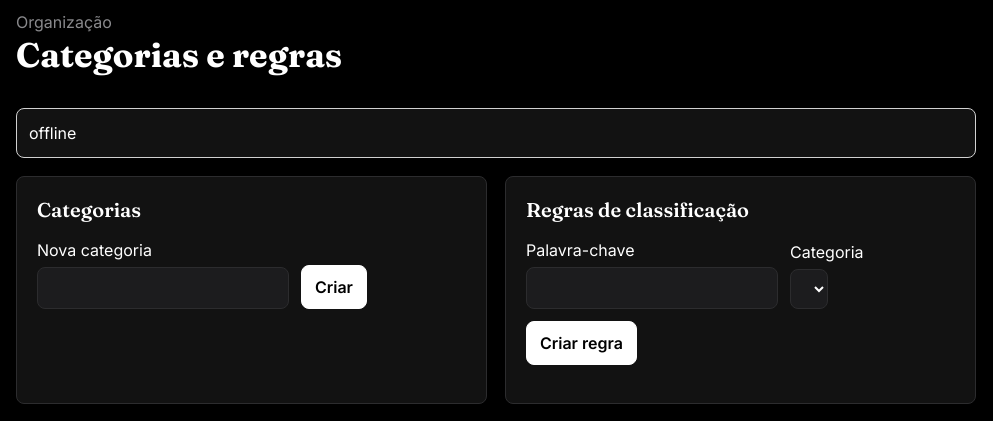
Scenario: CategoriesPage › clears an obsolete load error after successful category creation
Check: the message reads "offline", box x1=29 y1=123 x2=76 y2=143
Type "Moradia" into the field labelled "Nova categoria".
click(163, 288); type("Moradia")  # box x1=37 y1=267 x2=289 y2=309
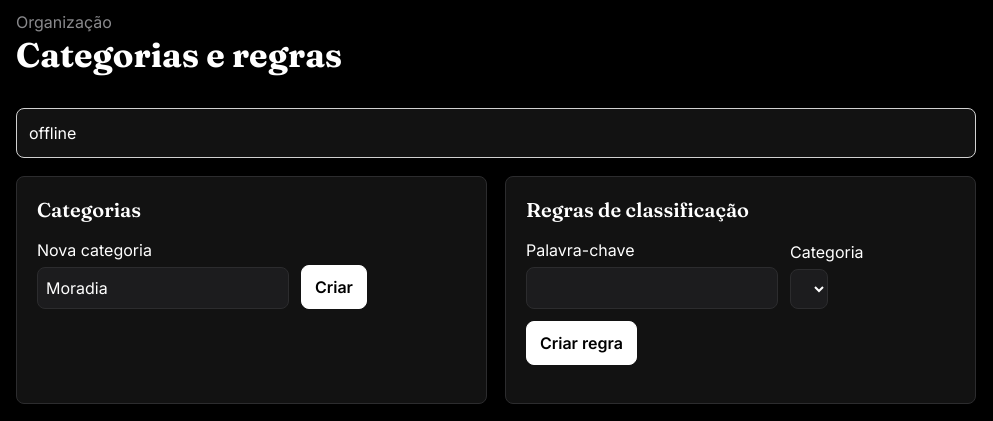
Click the button "Criar".
click(334, 287)  # box x1=301 y1=265 x2=367 y2=309
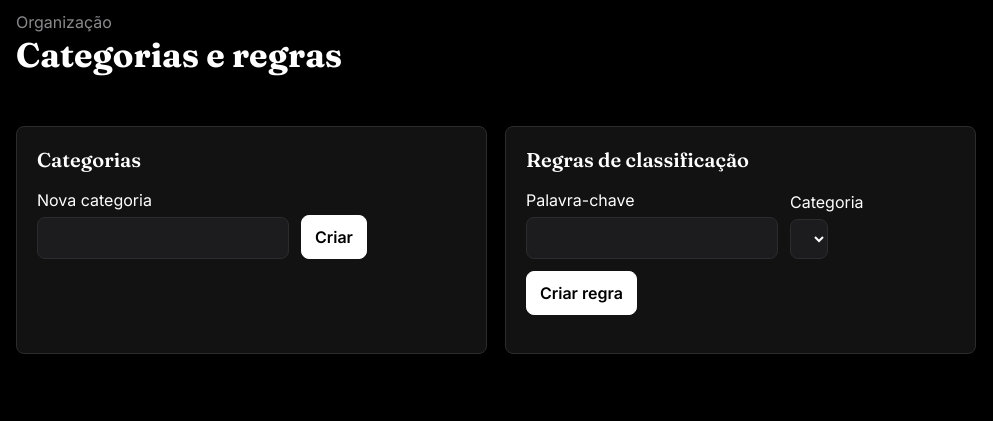
Check: the heading "Categorias" is shown, box x1=37 y1=147 x2=141 y2=172
Check: the message "offline" is gone
